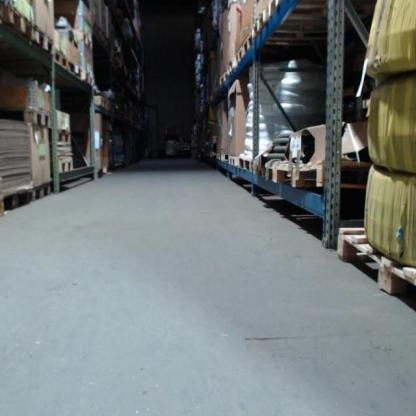pallet: (336, 228, 416, 311), (271, 157, 325, 189), (0, 1, 34, 40), (1, 107, 51, 129), (34, 28, 55, 55), (265, 0, 281, 27), (253, 10, 265, 40), (32, 182, 50, 202), (52, 50, 69, 70), (242, 31, 253, 59), (56, 158, 74, 172), (80, 32, 93, 49), (238, 156, 251, 170), (56, 131, 70, 143), (82, 71, 94, 85), (235, 47, 242, 68), (219, 71, 228, 85), (229, 155, 237, 166)
